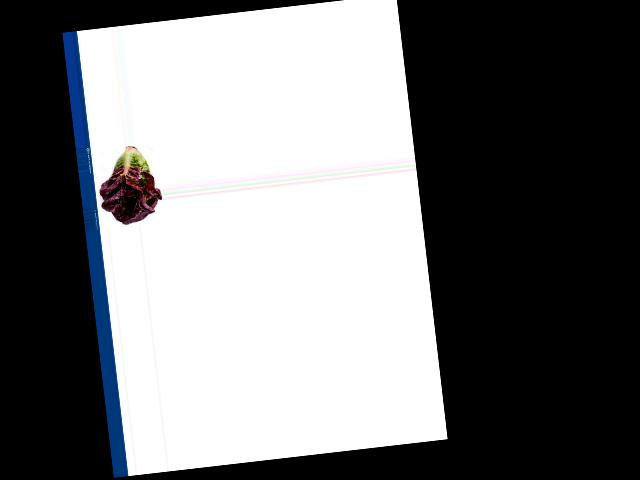lettuce: (94, 142, 162, 225)
